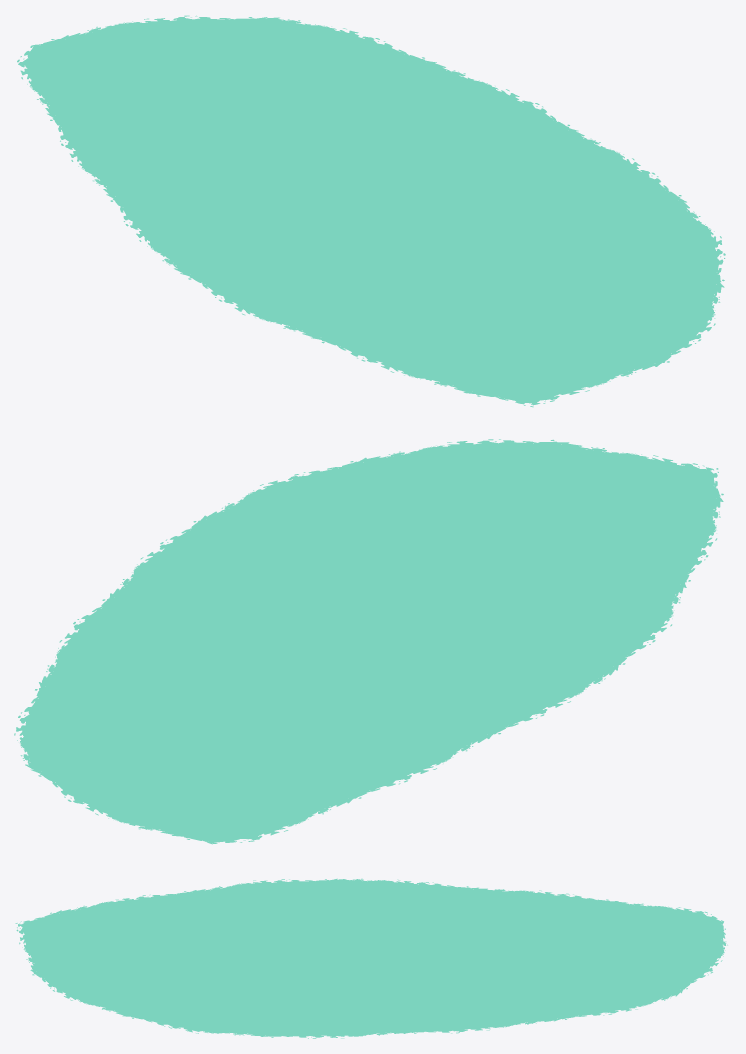
The model's file is Mesh_Home_BH_Sea_04.fbx.
3 renders of one model, top to bottom at view 1: azimuth 30°, elevation 25°; view 2: azimuth 150°, elevation 25°; view 3: azimuth 270°, elevation 25°, orthographic. The views are drawn at different scales.
Parts seen in each view (by area): view 1: Mesh_Home_BH_Sea_04; view 2: Mesh_Home_BH_Sea_04; view 3: Mesh_Home_BH_Sea_04.
Part boxes in pixels (bbox=[...]): Mesh_Home_BH_Sea_04: bbox=[17, 15, 725, 407]; Mesh_Home_BH_Sea_04: bbox=[14, 439, 723, 844]; Mesh_Home_BH_Sea_04: bbox=[15, 878, 727, 1038].
Size of the model in its own units: 4237 by 0 by 7854.
Materials: 1 (1 with a texture image).
